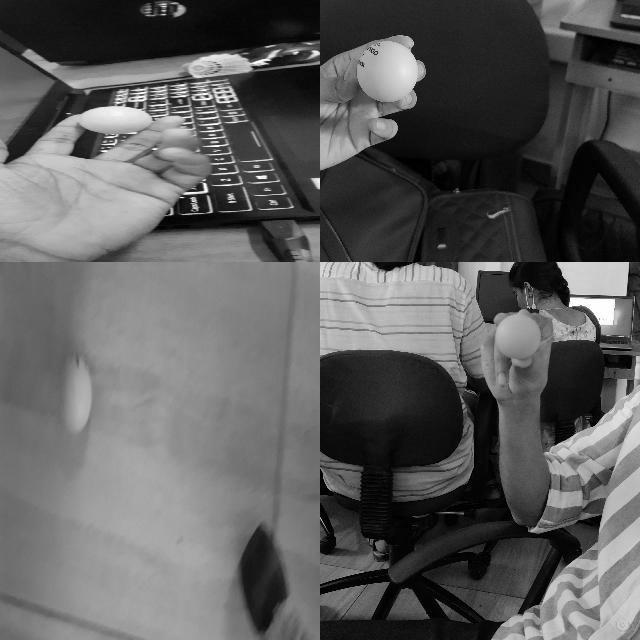ping-pong-ball: (356, 40, 416, 106), (59, 354, 92, 434), (492, 318, 538, 360), (81, 106, 149, 134)
